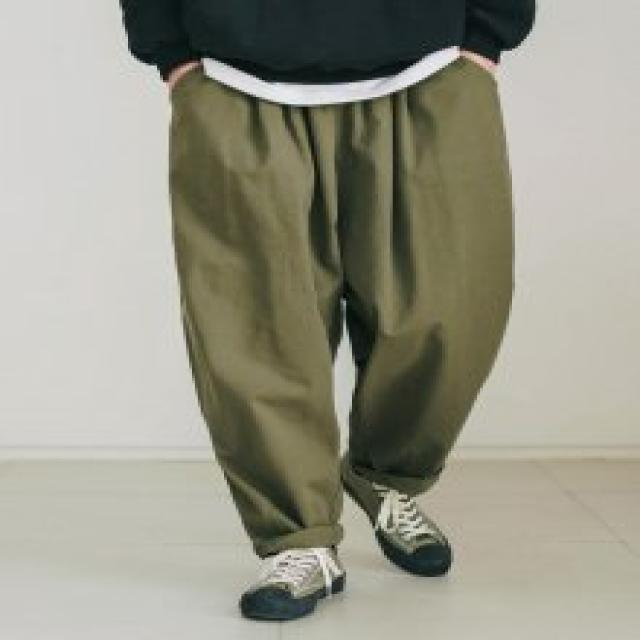long-pants: (163, 52, 522, 564)
